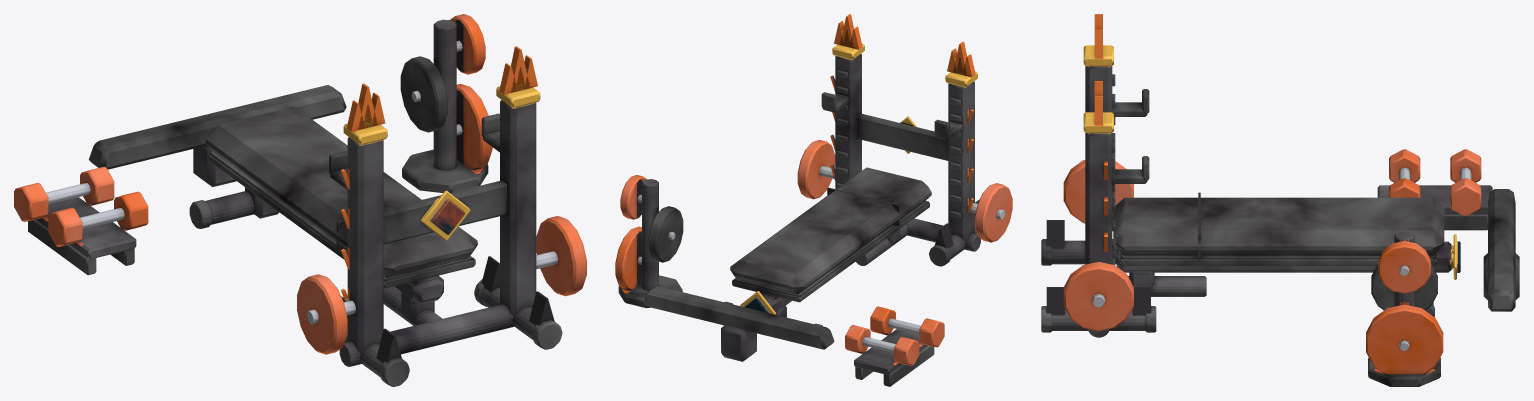
File: Bench_Lave_Rig.fbx
3 views of the same model, side by side, from view 1: azimuth 30°, elevation 25°; view 2: azimuth 150°, elevation 25°; view 3: azimuth 270°, elevation 25° (orthographic). The views are drawn at different scales.
Visible parts, largest first — view 1: Rack, Weights, Bench, Decor; view 2: Rack, Weights, Bench, Decor; view 3: Bench, Weights, Rack, Decor.
Boxes of the visible parts, x1,y1,x2,y2 form: Rack: (297, 86, 586, 386); Weights: (14, 14, 492, 275); Bench: (189, 106, 477, 304); Decor: (341, 46, 554, 362); Rack: (797, 43, 1012, 266); Weights: (615, 175, 944, 386); Bench: (724, 167, 931, 326); Decor: (830, 14, 979, 248); Bench: (1113, 192, 1460, 316); Weights: (1366, 149, 1519, 386); Rack: (1041, 45, 1206, 337); Decor: (1046, 14, 1150, 315).
Size of the model in its own units: 9.59 by 6 by 10.42.
1 material, 1 textured.
